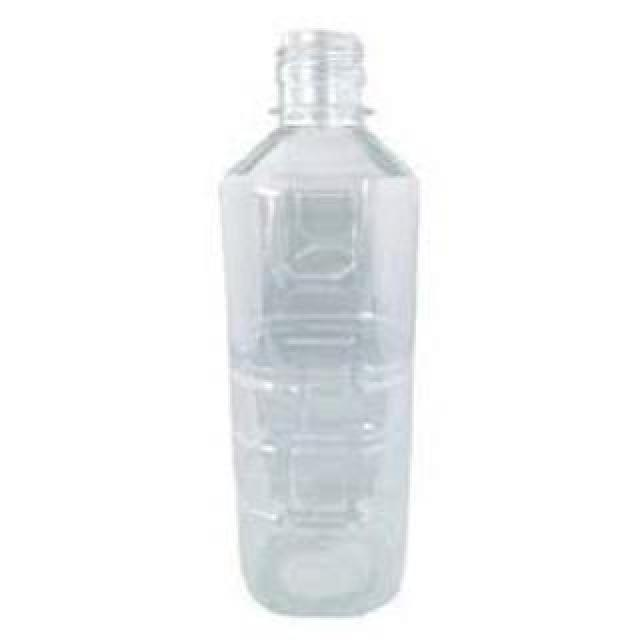Pet_Bottle: (214, 31, 426, 617)
